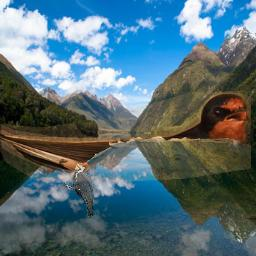Swallow: (0, 91, 251, 182)
Woodpecker: (63, 159, 96, 219)
